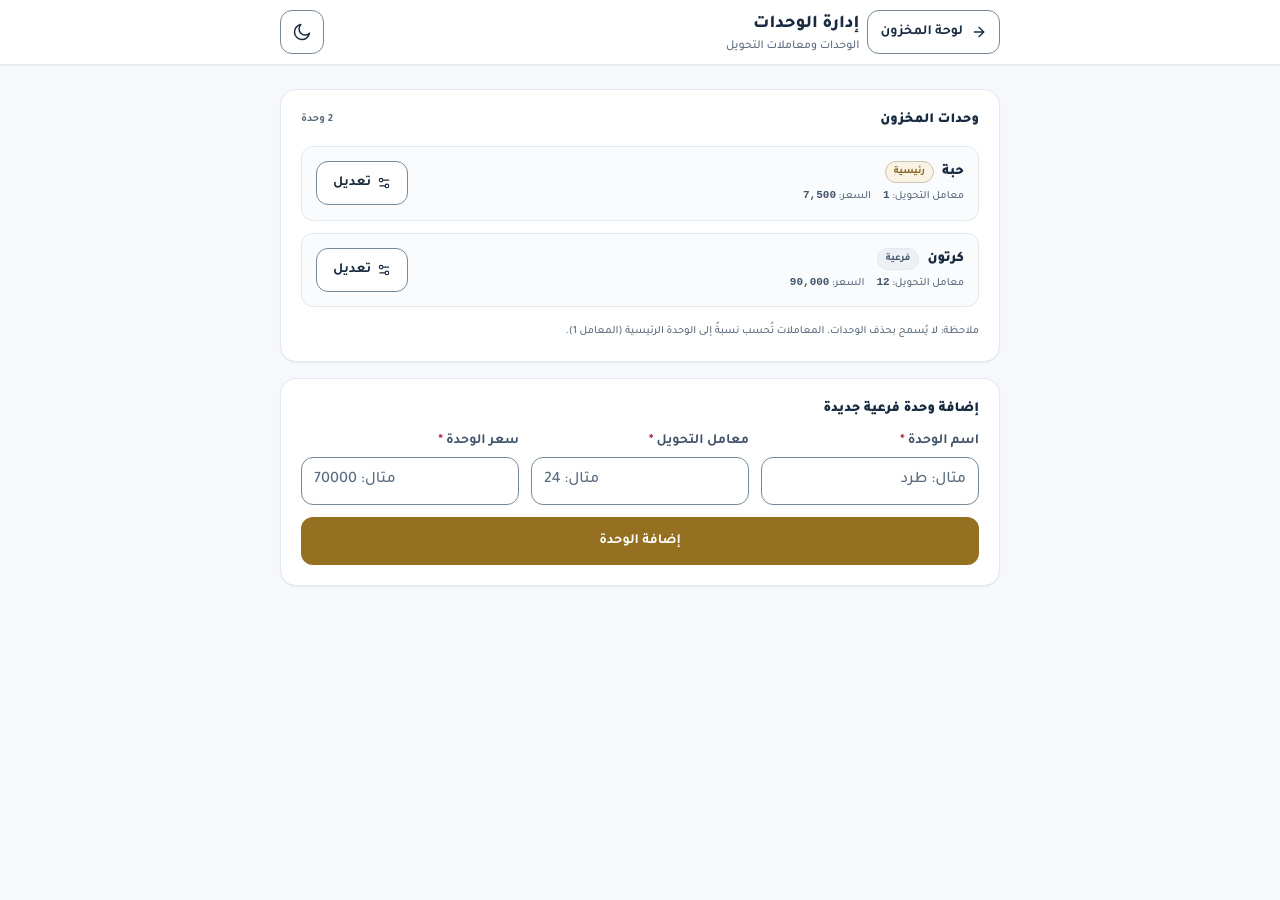
Test case: يطلب تسجيل الدخول إذا انتهت الجلسة أثناء إعادة محاولة تعديل الاسم
Check: the text "كرتون" is shown, box [927,249,964,269]
Step 1. Click the button "تعديل" in the row of "90,000" → (362, 270), box [316,248,408,292]
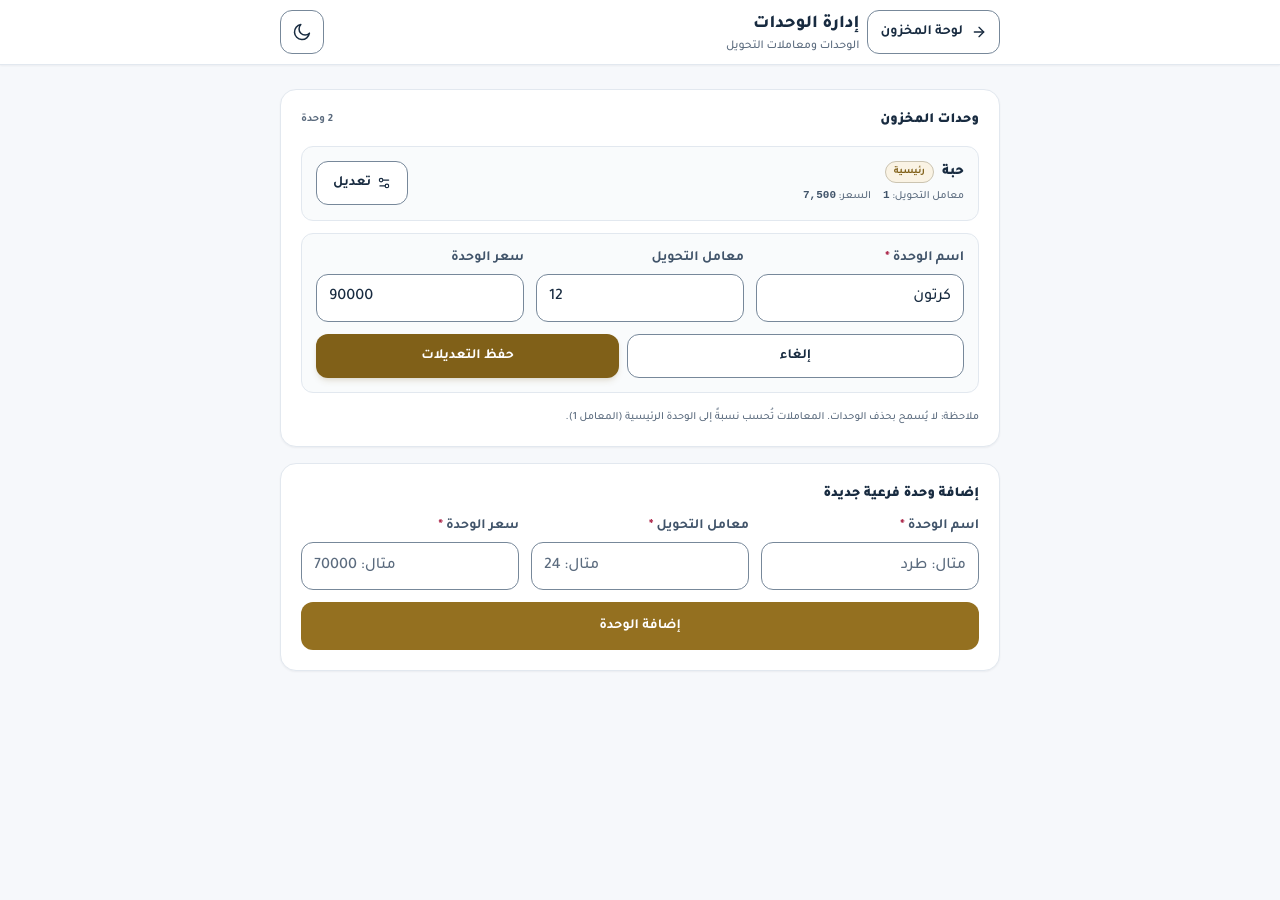
Step 2. Replace the text in the field with id "edit-name-11" with "كرتون كبير" → (860, 298), box [756,274,964,322]
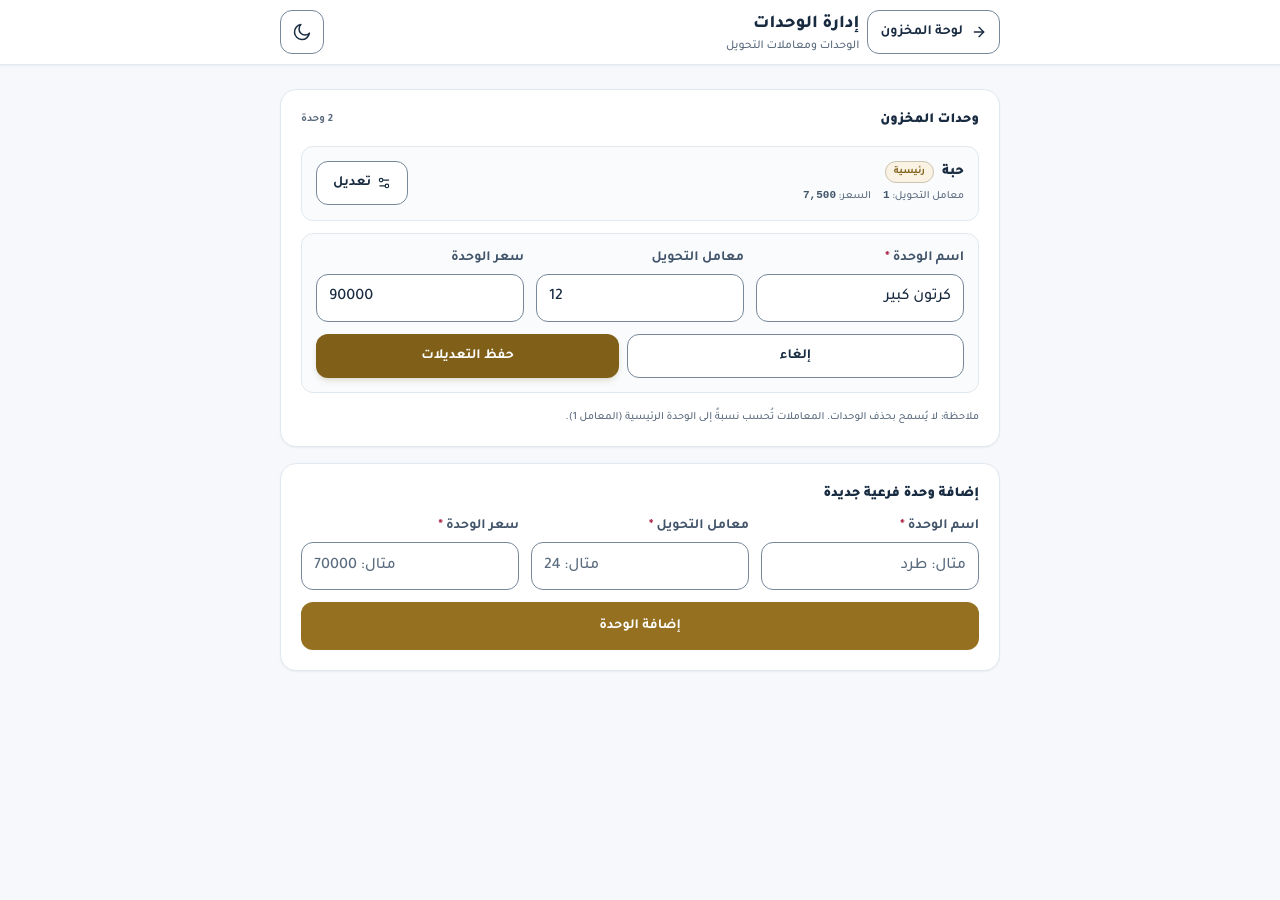
Step 3. Replace the text in the field with id "edit-rate-11" with "15" → (640, 298), box [536,274,744,322]
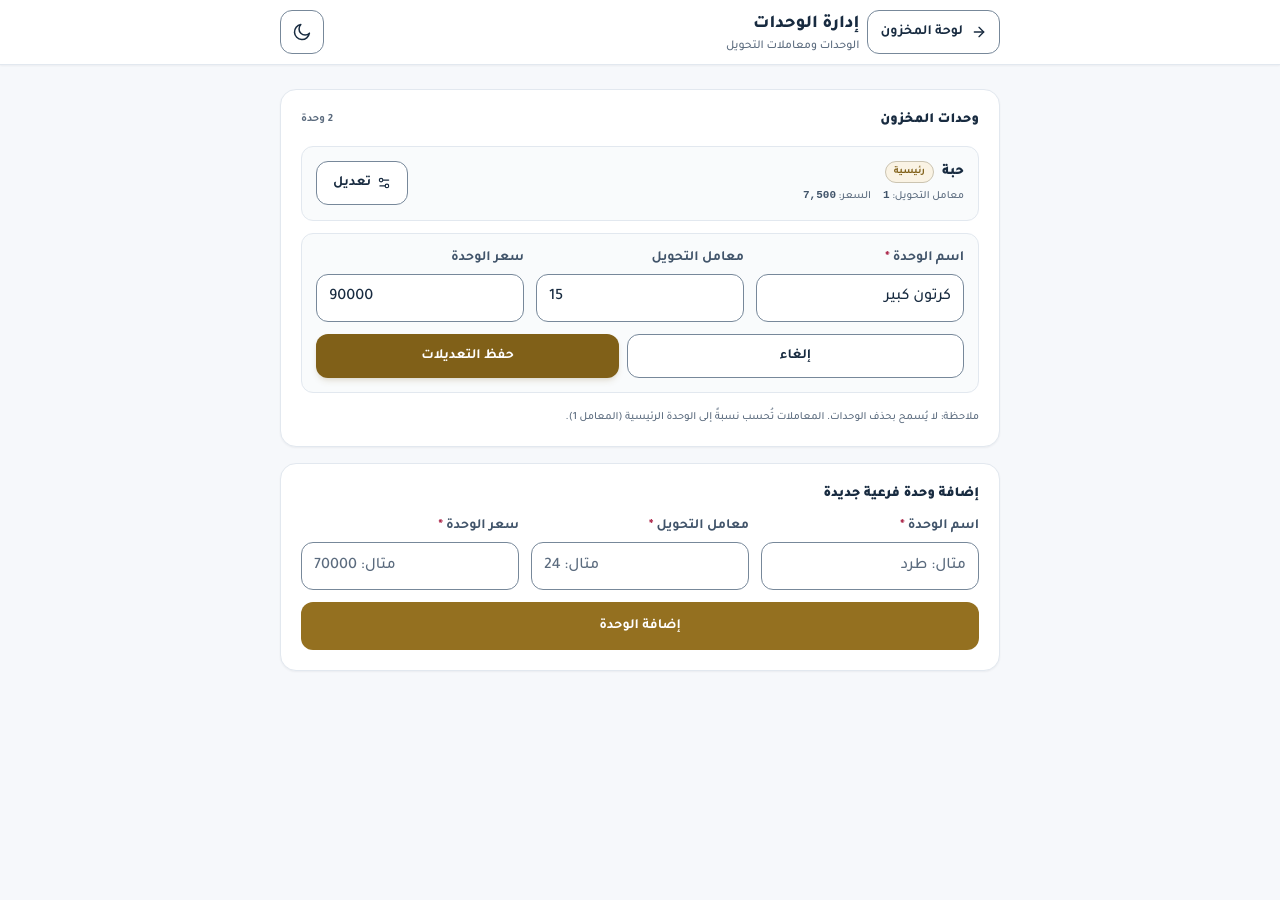
Step 4. Click the button "حفظ التعديلات" → (468, 356), box [316,334,619,378]
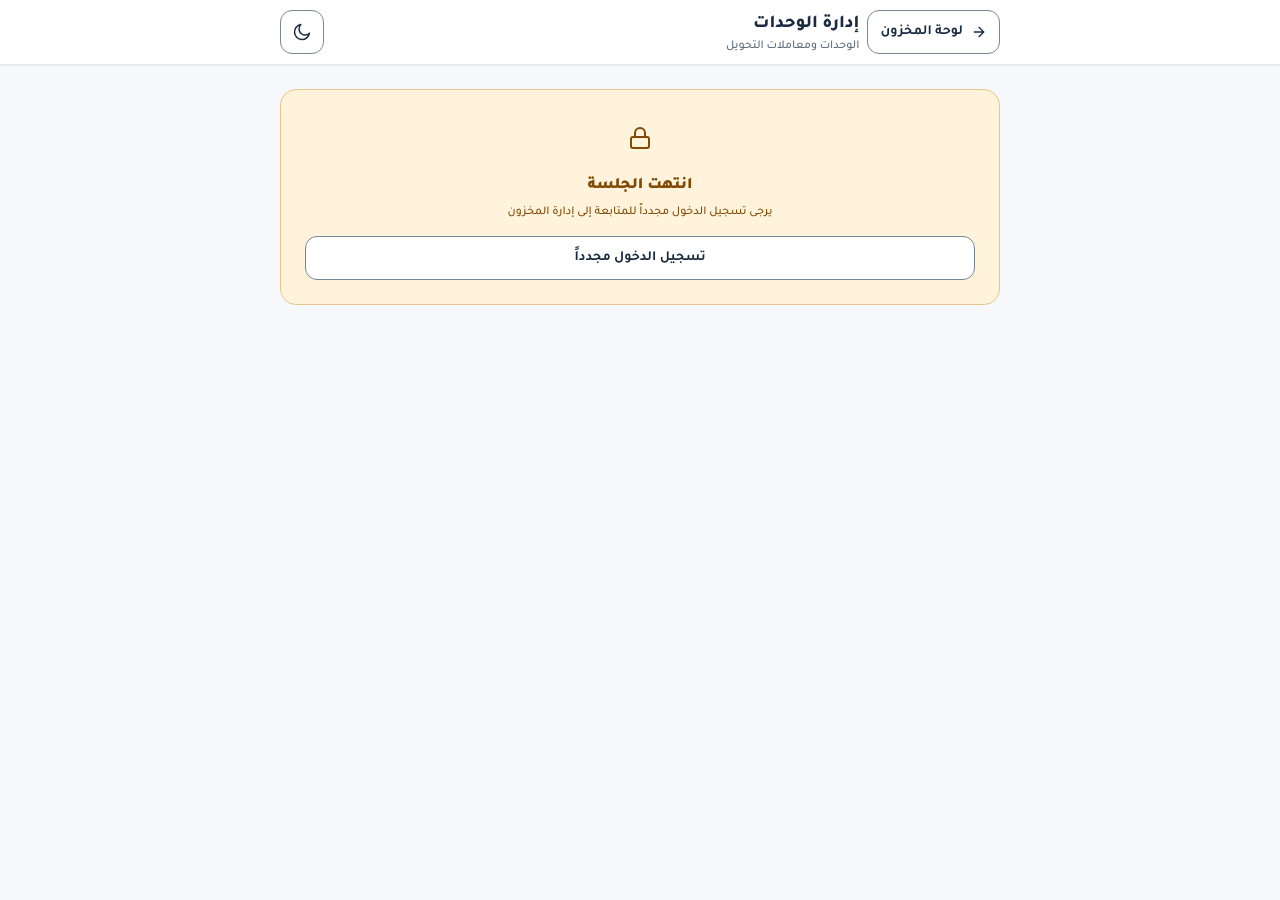
Check: the button "تسجيل الدخول مجدداً" is shown, box [305,236,975,280]
